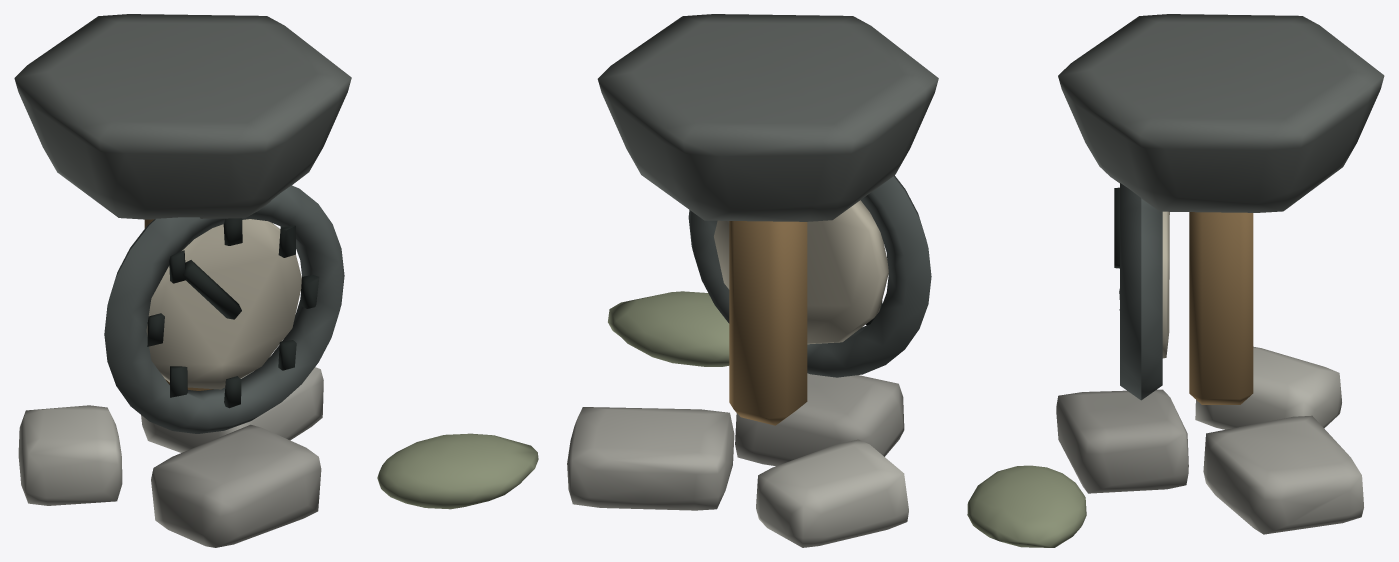
File: rain_gauge_a_lod1.glb
3 views of the same model, side by side, from view 1: azimuth 30°, elevation 25°; view 2: azimuth 150°, elevation 25°; view 3: azimuth 270°, elevation 25° (orthographic). The views are drawn at different scales.
Visible parts, largest first — view 1: Surface.001; view 2: Surface.001; view 3: Surface.001.
Part boxes in pixels (bbox=[...]): Surface.001: bbox=[14, 14, 538, 547]; Surface.001: bbox=[567, 14, 938, 547]; Surface.001: bbox=[967, 14, 1384, 547].
Size of the model in its own units: 1.4 by 1.39 by 1.3.
